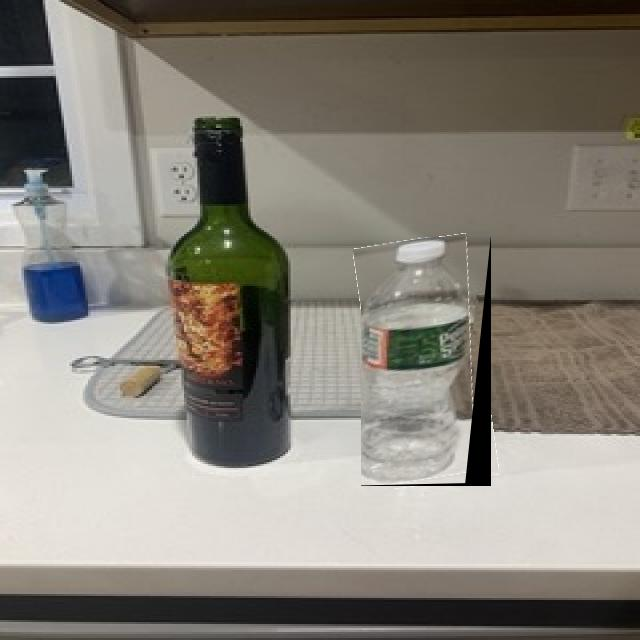water_bottle: (361, 237, 491, 486)
